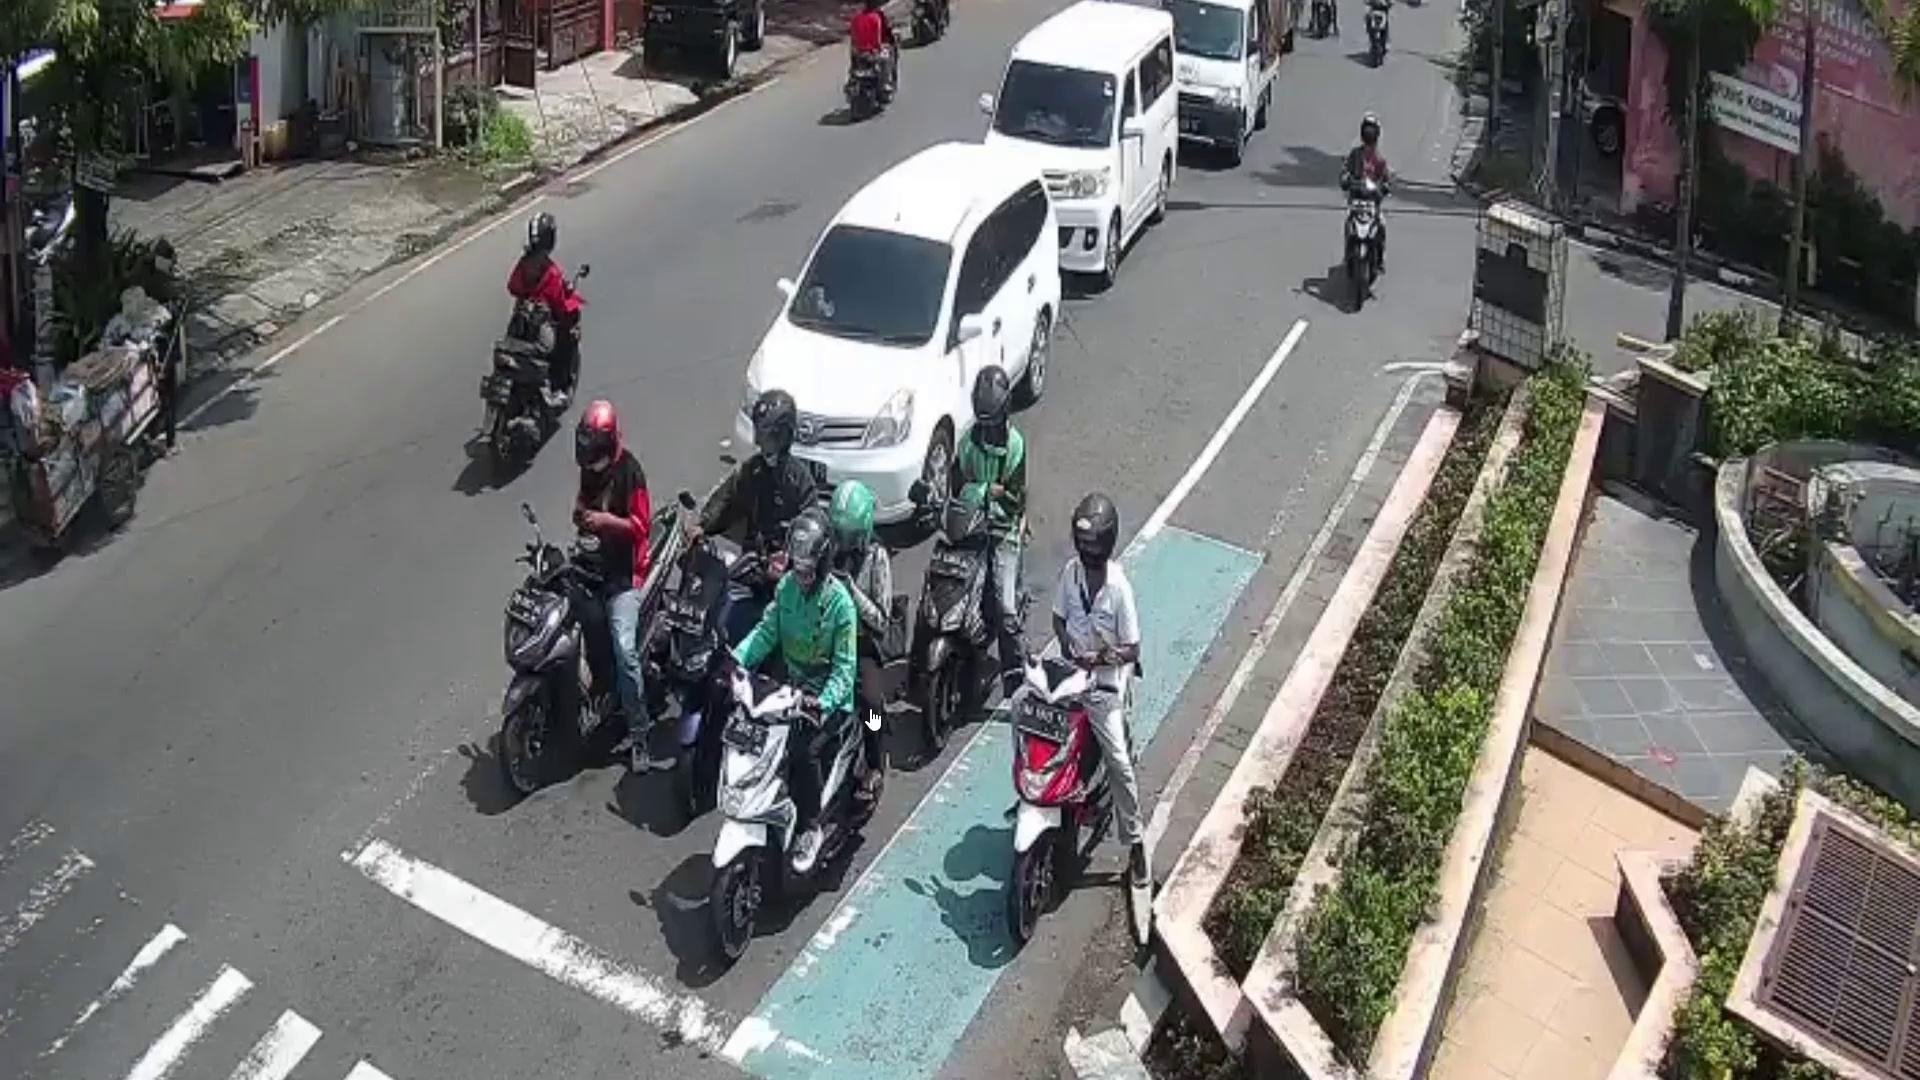car: (728, 137, 1062, 538), (989, 0, 1180, 273), (1163, 0, 1280, 158)
motorbike: (489, 501, 702, 800), (711, 669, 870, 959), (1013, 653, 1116, 936), (914, 501, 998, 753), (483, 305, 579, 475), (1342, 173, 1390, 316)
